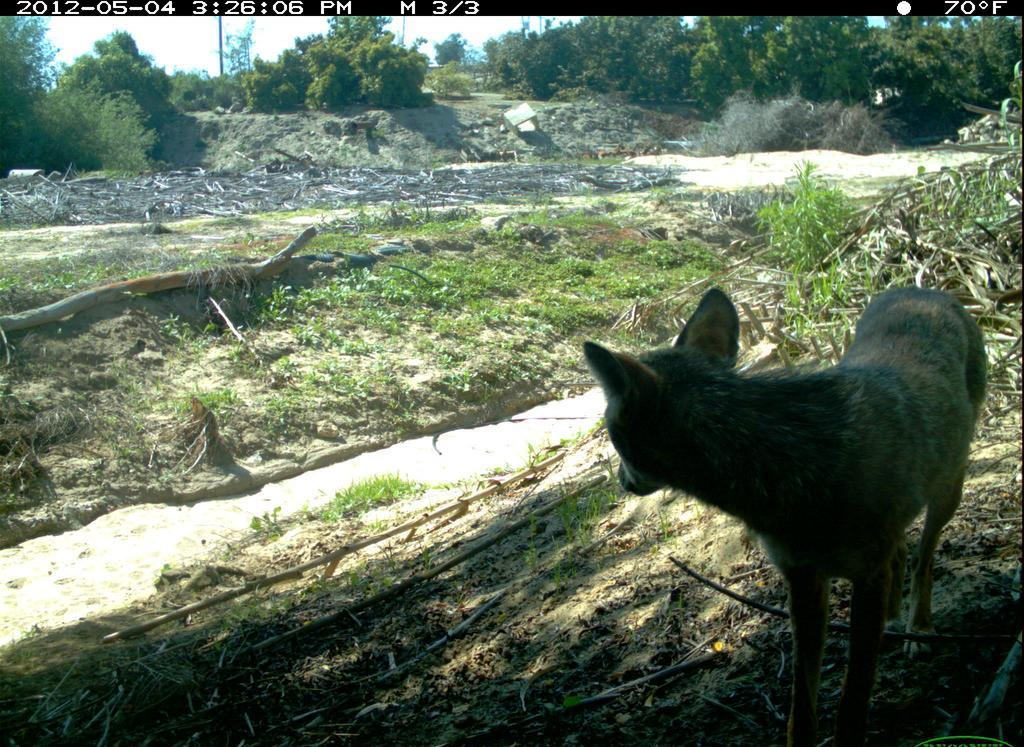coyote: (578, 283, 993, 740)
